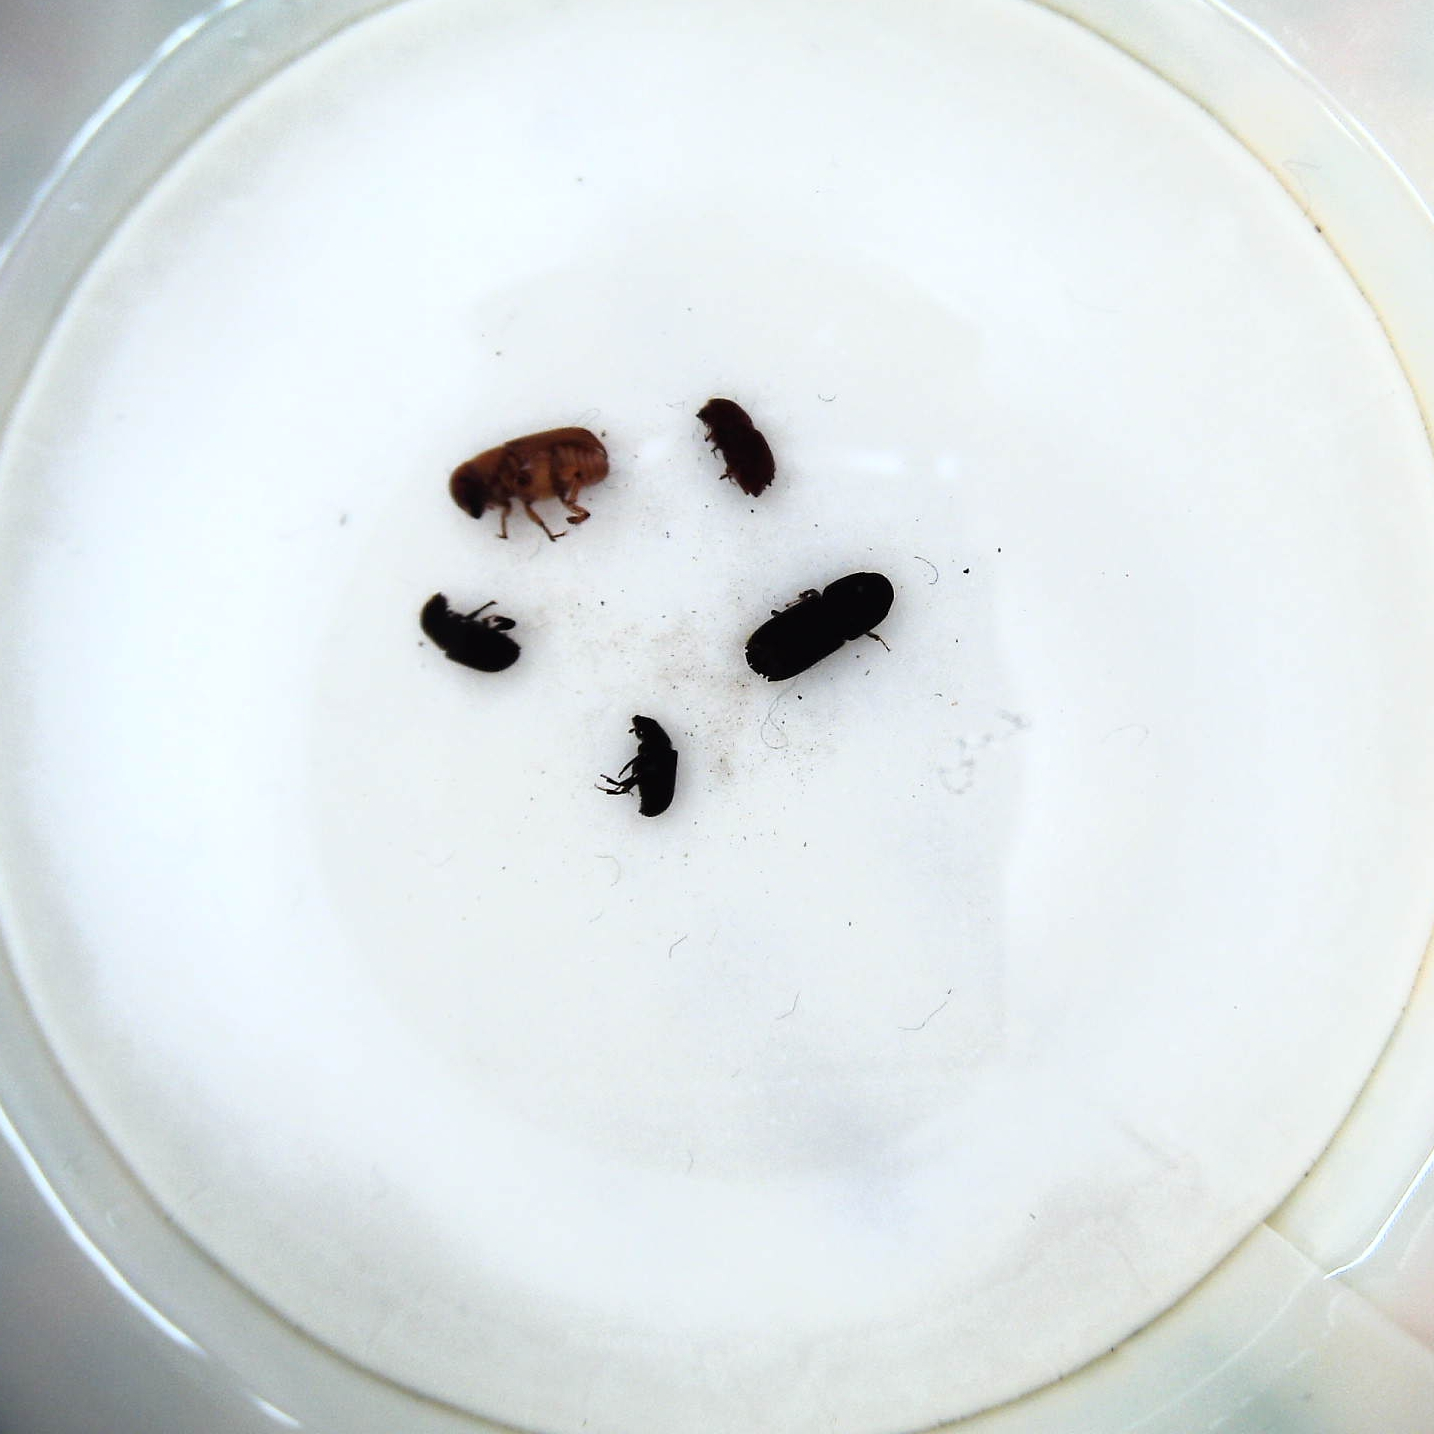Boerner: (746, 571, 896, 683)
Leconte: (443, 422, 619, 542)
armandi: (418, 588, 524, 678)
coleoptera: (601, 712, 687, 827)
linnaeus: (697, 393, 777, 506)
